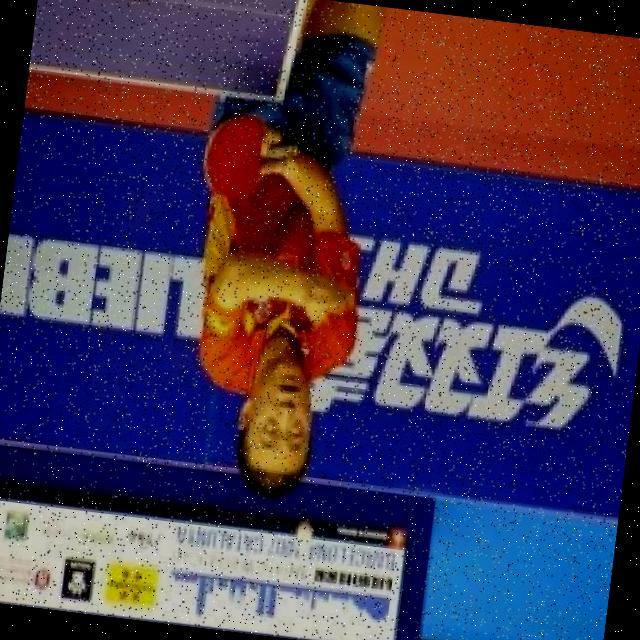ping-pong-ball: (288, 514, 320, 552)
